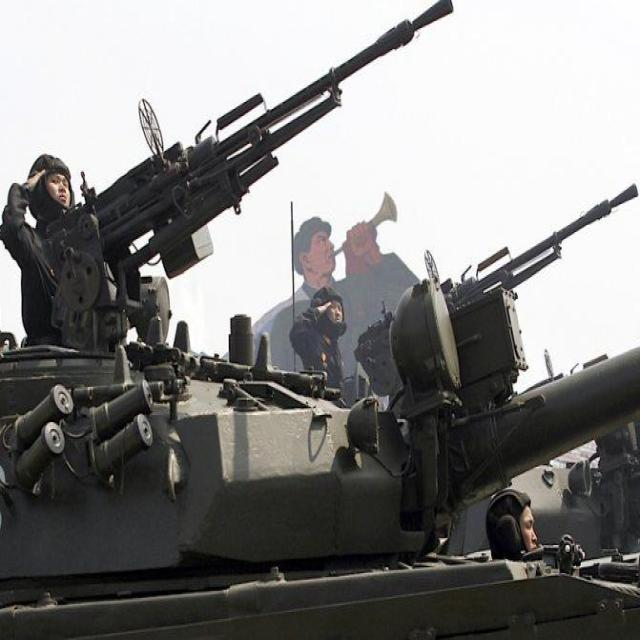north tank: (2, 105, 640, 640)
